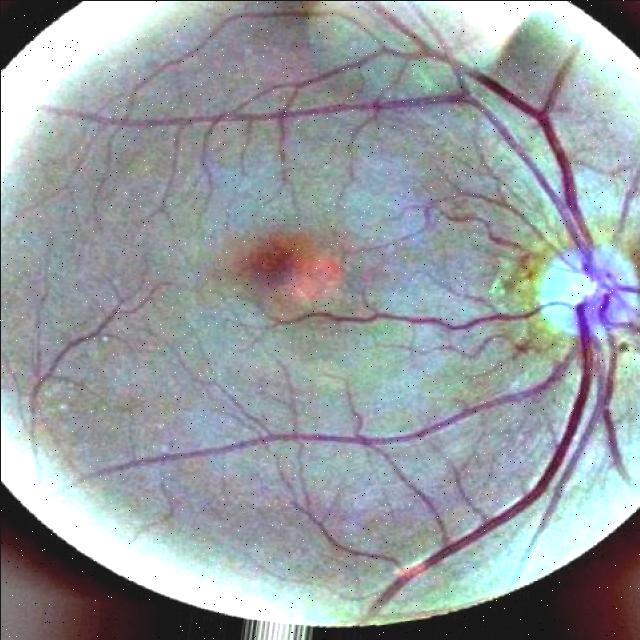Macula: (243, 235, 340, 300)
Nerves: (305, 97, 640, 608), (447, 196, 576, 288), (461, 69, 549, 145), (613, 172, 637, 233)
Optic Disk: (539, 249, 637, 337)
